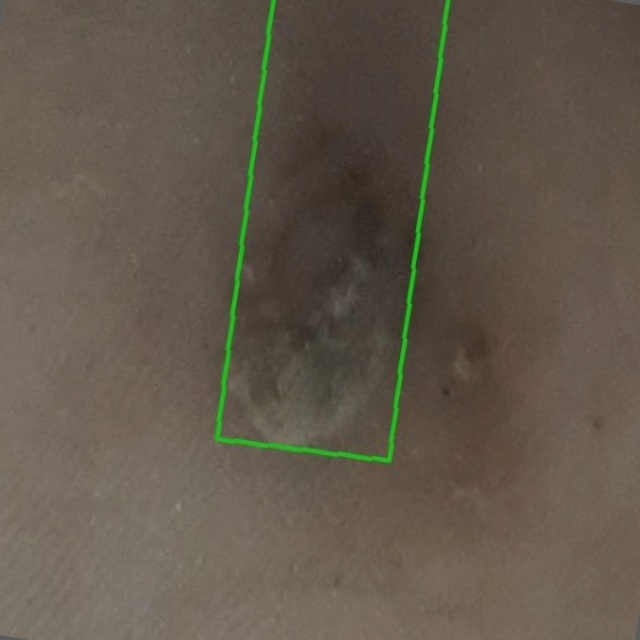Eczema: (217, 0, 447, 459)
